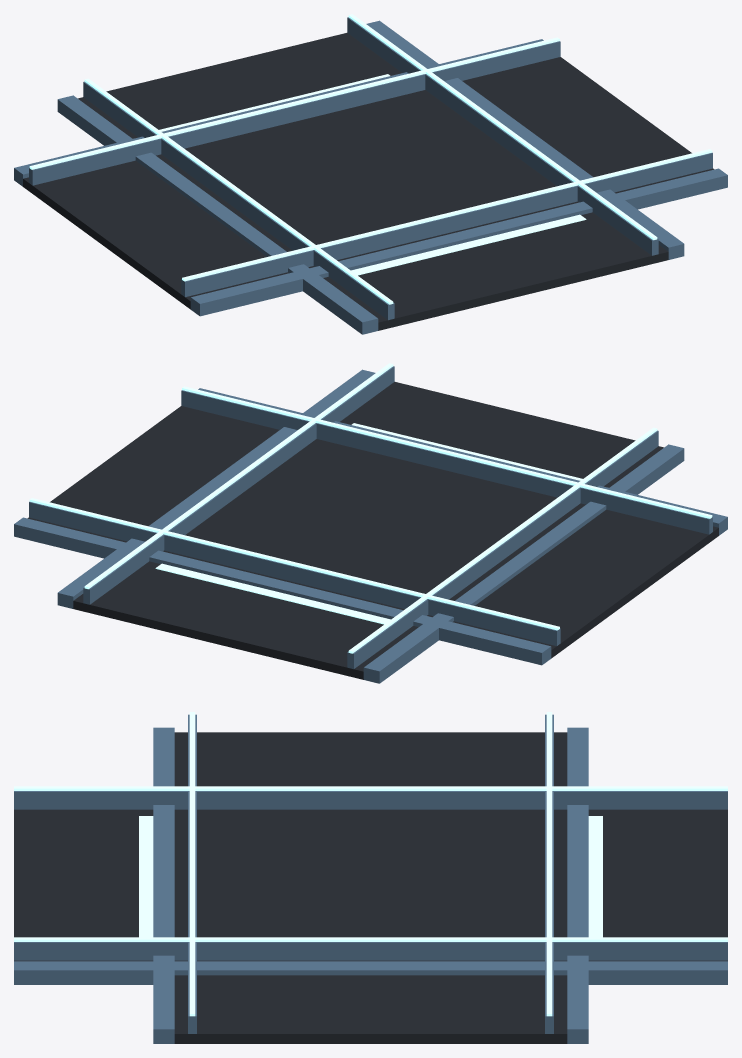
Rendered from road_future_cross.glb.
3 renders of one model, top to bottom at view 1: azimuth 30°, elevation 25°; view 2: azimuth 150°, elevation 25°; view 3: azimuth 270°, elevation 25°, orthographic. The views are drawn at different scales.
Parts seen in each view (by area): view 1: body; view 2: body; view 3: body.
Boxes of the visible parts, box(x1,y1,x2,y2) form: body: box(14, 14, 727, 334); body: box(14, 363, 727, 683); body: box(14, 712, 727, 1043).
Size of what is drawn, in the model's own units: 8 by 0.37 by 8.
